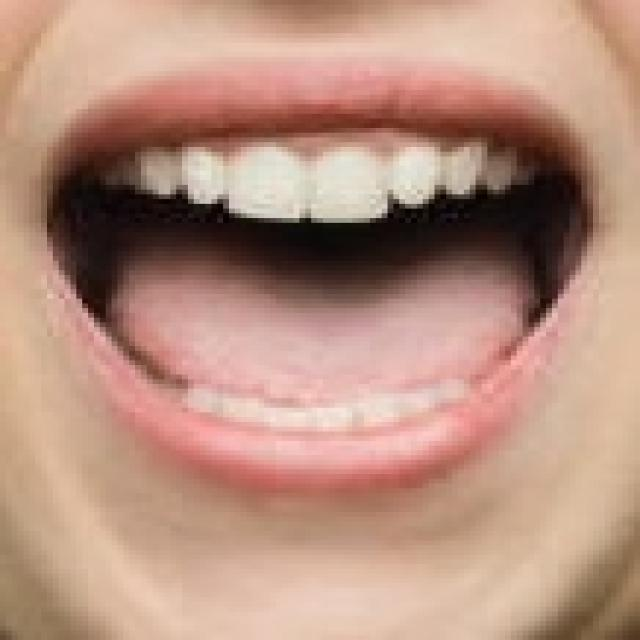open-mouth: (35, 52, 599, 493)
